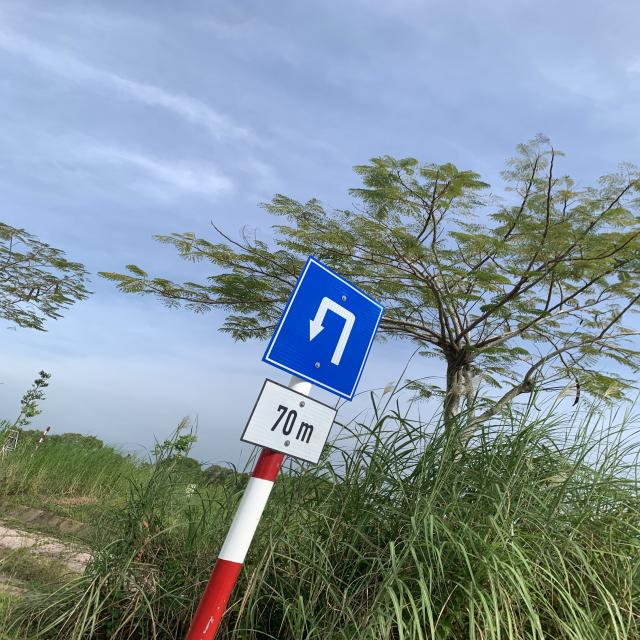Den_Giao_Thong: (264, 256, 388, 402)
